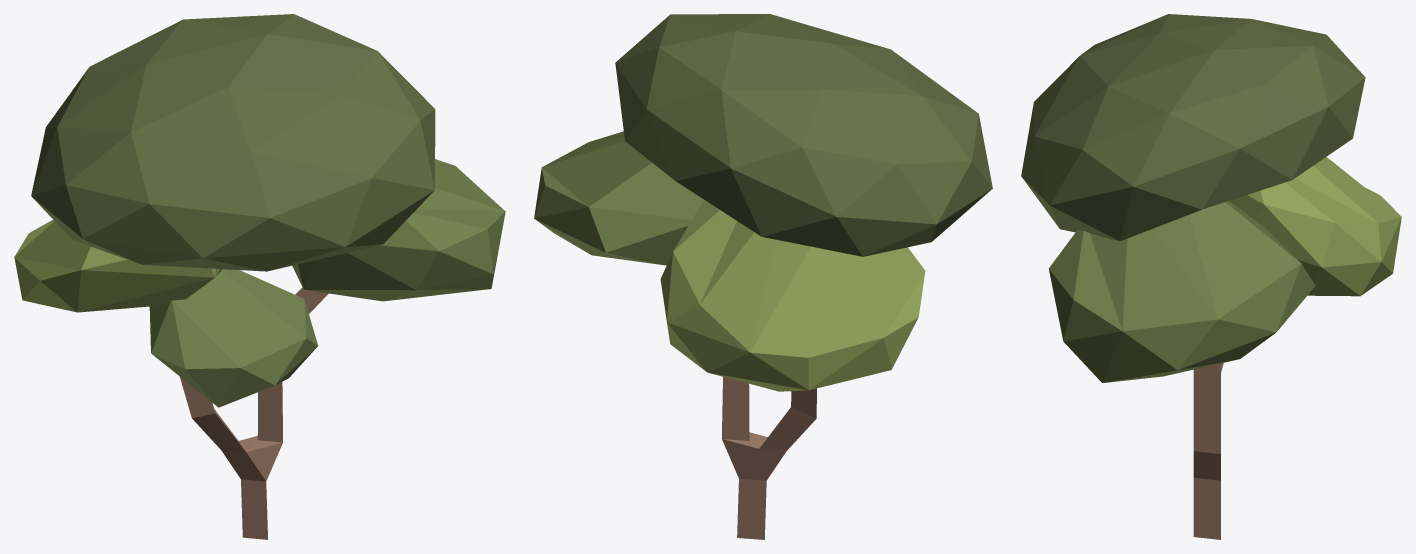
Rendered from LPTree_Tree_Type3_02_Model_instanced_l1.glb.
3 renders of one model, left to right at view 1: azimuth 30°, elevation 25°; view 2: azimuth 150°, elevation 25°; view 3: azimuth 270°, elevation 25°, orthographic. The views are drawn at different scales.
Parts seen in each view (by area): view 1: Tree Type3 02 Model; view 2: Tree Type3 02 Model; view 3: Tree Type3 02 Model.
Boxes of the visible parts, box(x1,y1,x2,y2) form: Tree Type3 02 Model: box(14, 14, 505, 539); Tree Type3 02 Model: box(534, 14, 992, 539); Tree Type3 02 Model: box(1021, 14, 1401, 539).
Bounding box in the file's own units: 2.35 × 2.67 × 1.87.
1 material, 1 textured.
